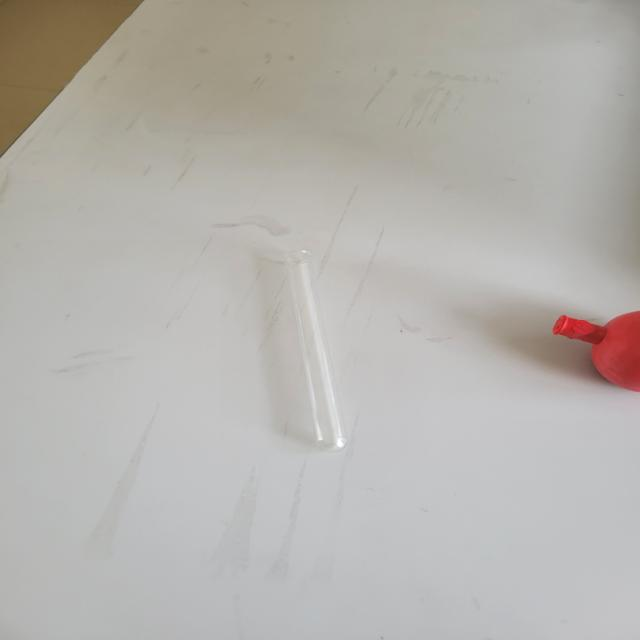Test_Tube: (252, 211, 380, 470)
